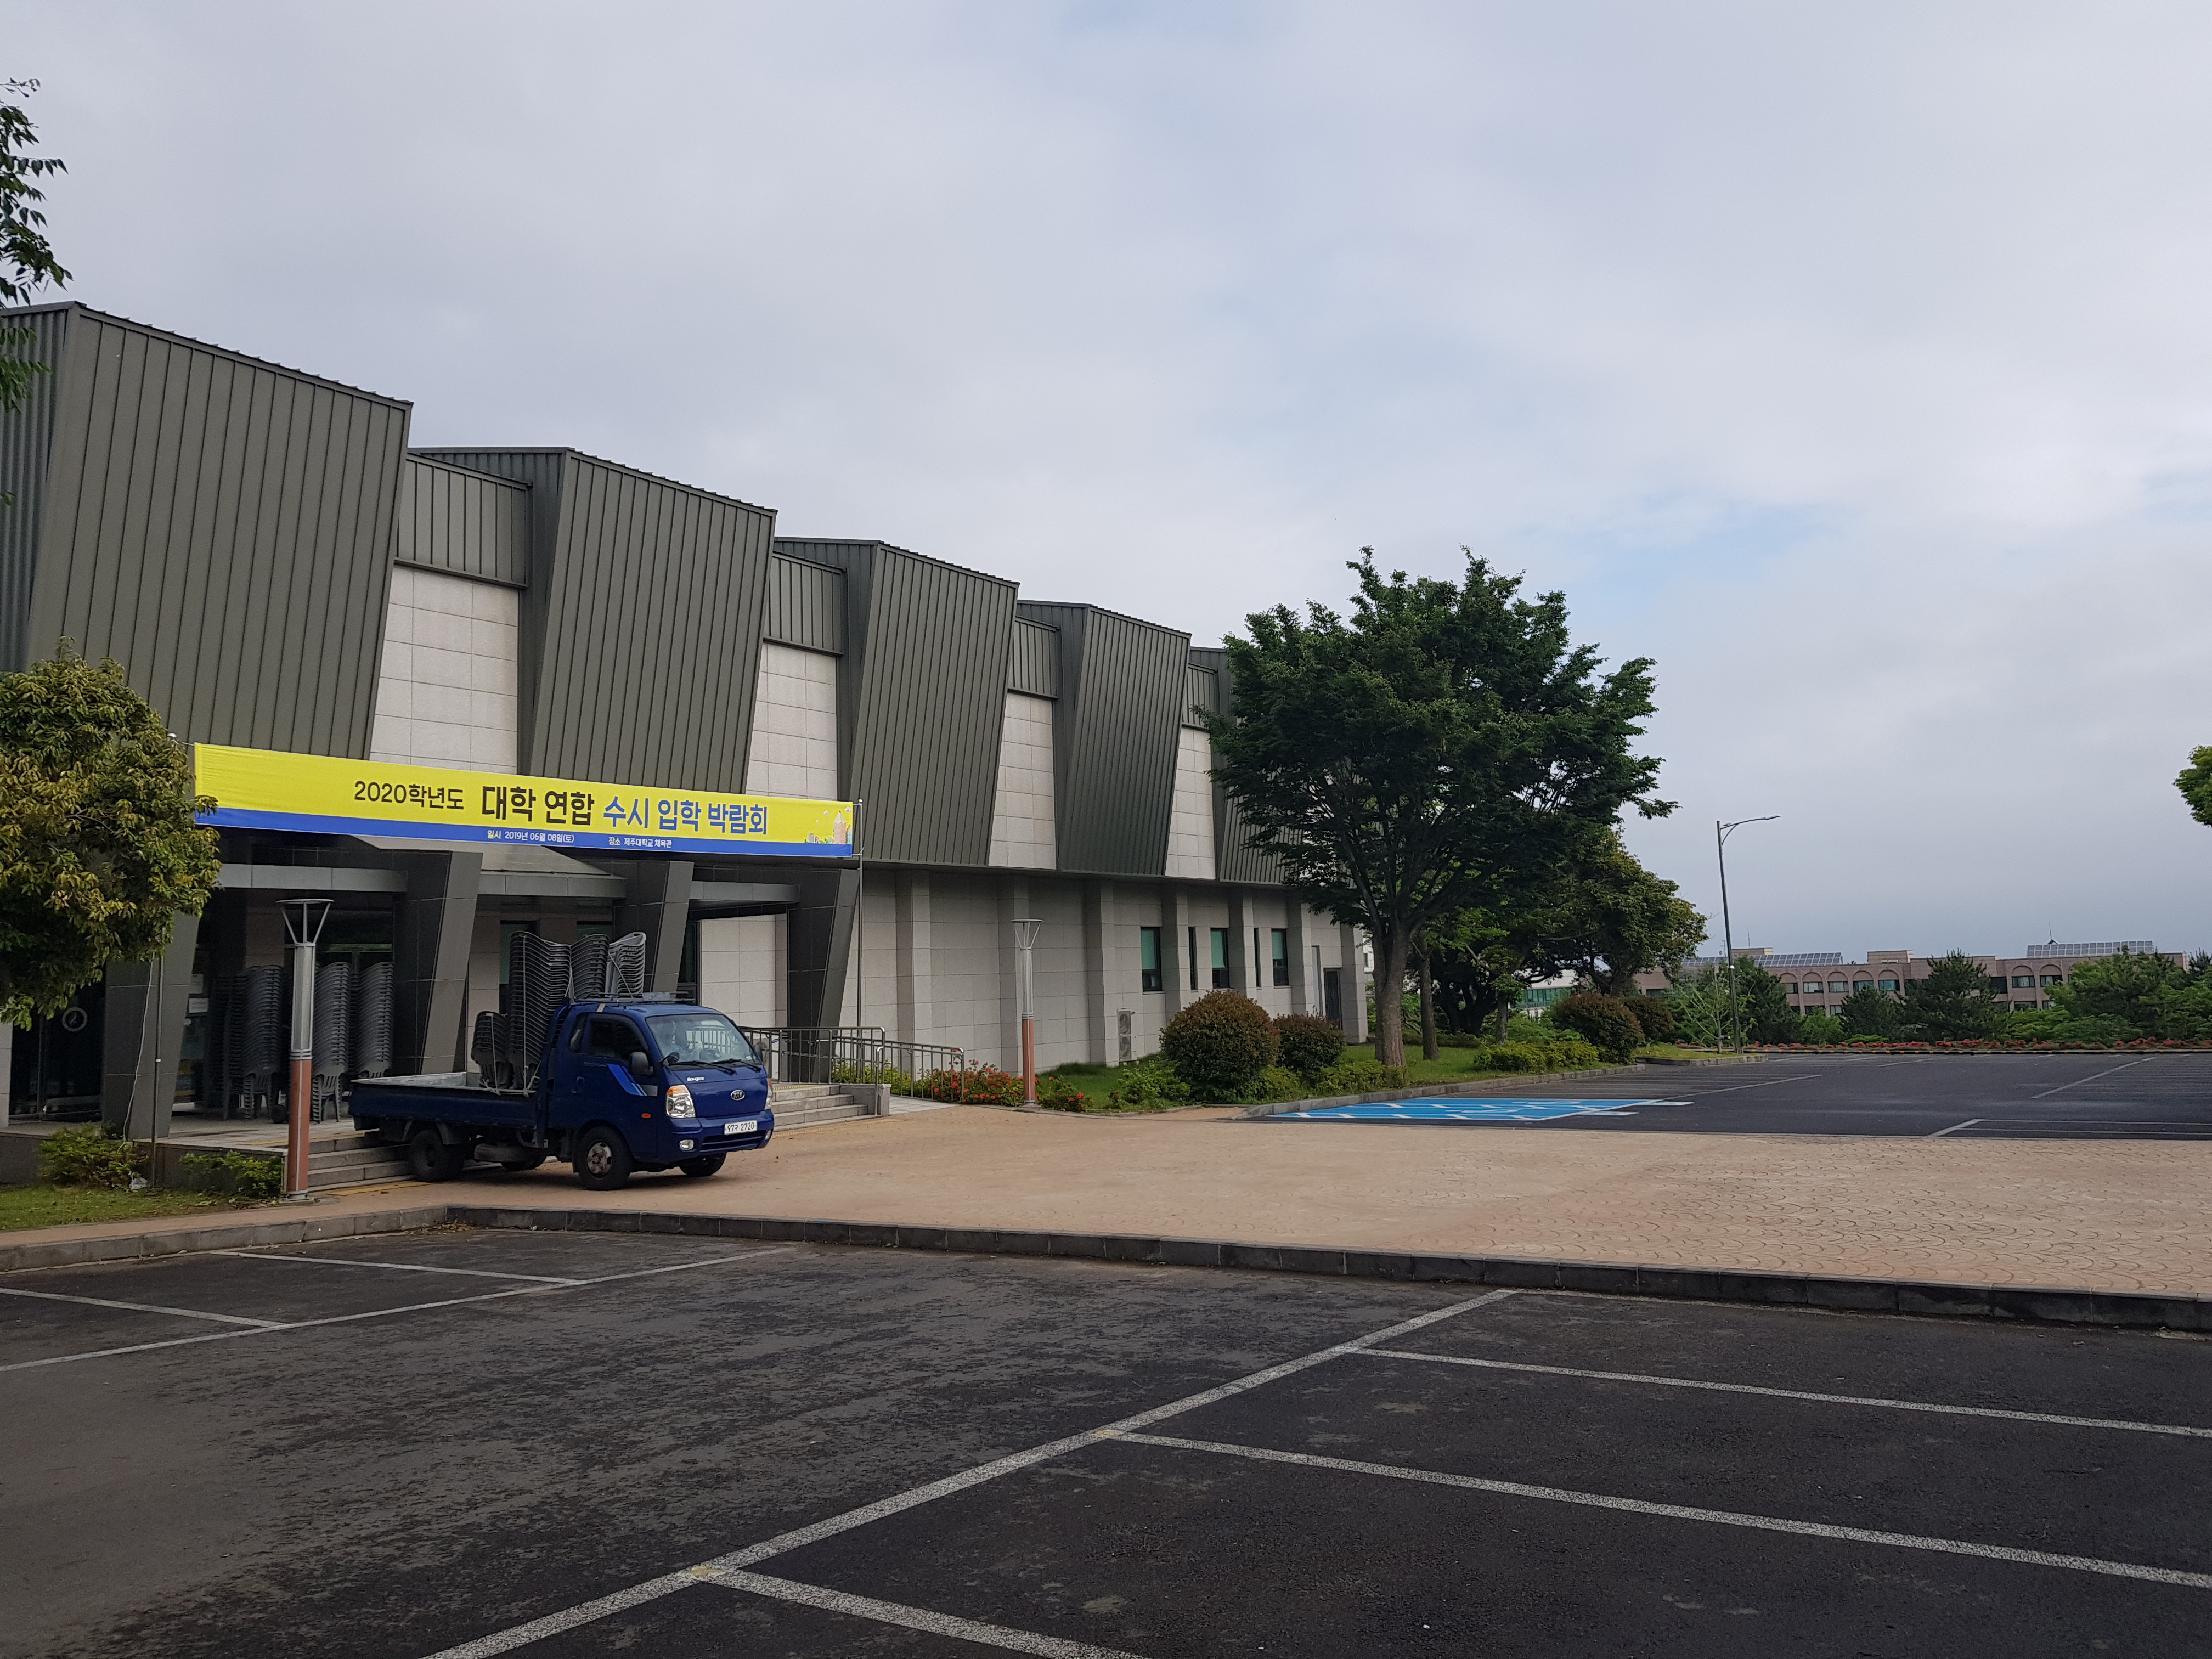Gym: (44, 314, 1421, 1084), (84, 361, 1338, 842)
